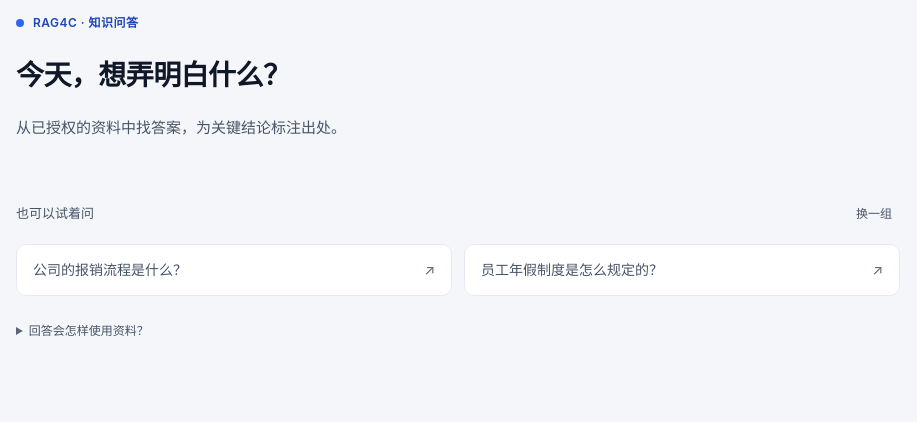
Test: QueryWelcome › starts with an invitation and two examples, with the explanation closed
Expected: the heading "今天，想弄明白什么？" is shown, [16, 58, 290, 92]
Expected: the number of buttons is 3, [848, 196, 900, 232]; [16, 244, 452, 296]; [464, 244, 900, 296]
Click the heading "回答会怎样使用资料？" at point(89, 331), box [29, 323, 149, 338]
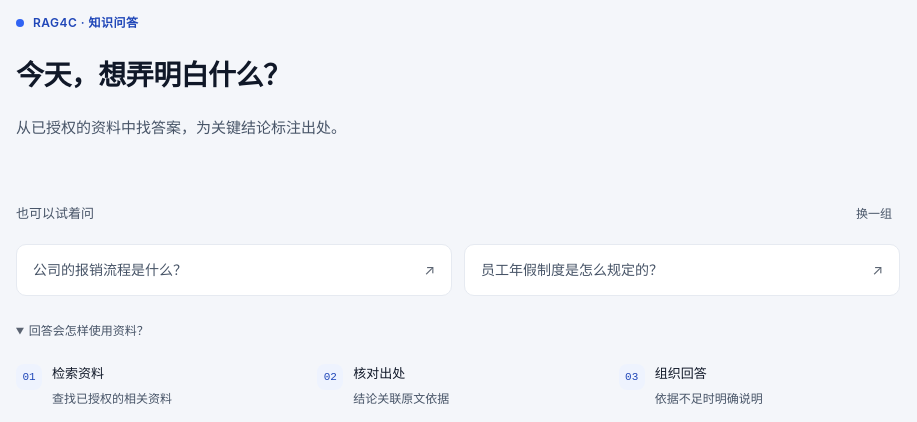
Result: the list named "回答依据路径" is shown at [16, 364, 763, 406]
Result: the number of list items is 3 at [16, 364, 172, 406]; [317, 364, 449, 406]; [619, 364, 763, 406]
